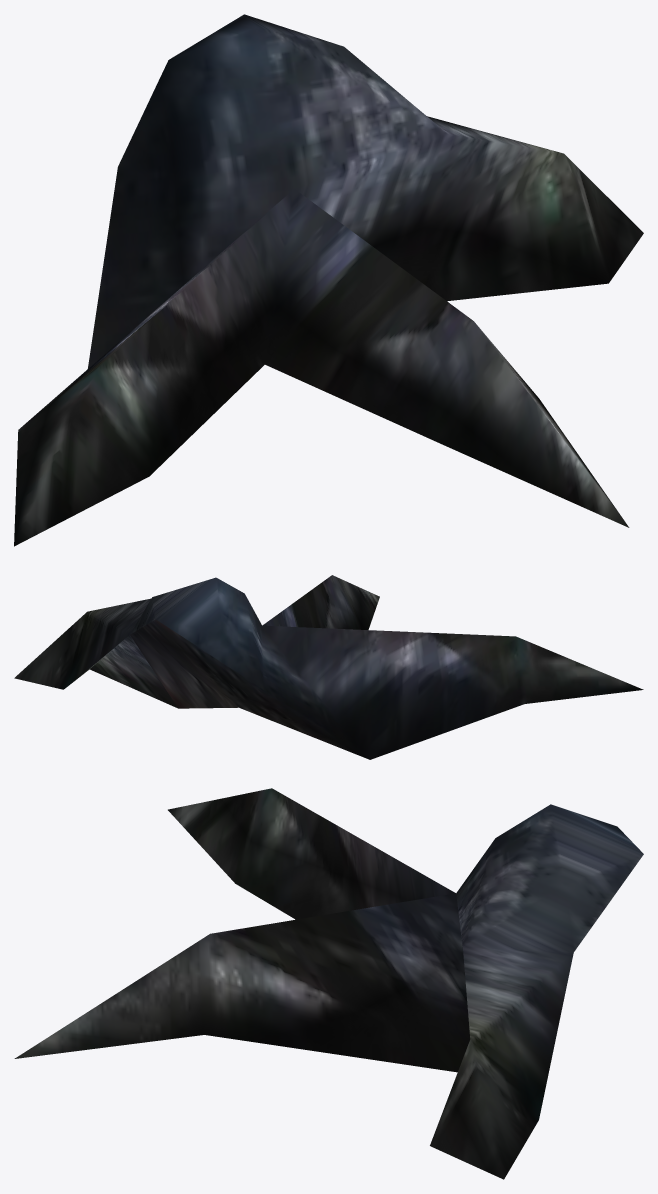
Rendered from ITAT_SEALURKERCLAW.glb.
3 views of the same model, one above another, from view 1: azimuth 30°, elevation 25°; view 2: azimuth 150°, elevation 25°; view 3: azimuth 270°, elevation 25° (orthographic). The views are drawn at different scales.
Parts seen in each view (by area): view 1: Mesh; view 2: Mesh; view 3: Mesh.
Boxes of the visible parts, x1=… form: Mesh: x1=14, y1=14, x2=643, y2=546; Mesh: x1=14, y1=575, x2=643, y2=759; Mesh: x1=14, y1=788, x2=643, y2=1179.
Size of the model in its own units: 0.8548 by 0.2742 by 0.6705.
Materials: 1 (1 with a texture image).
